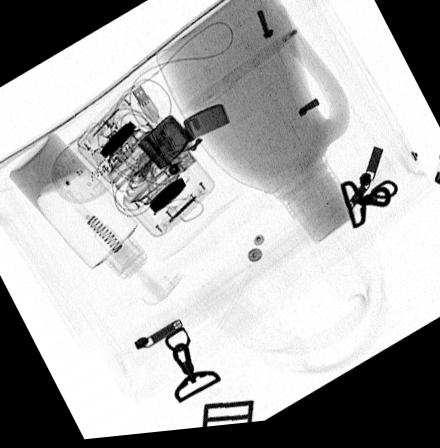Lighter: (135, 107, 229, 180)
